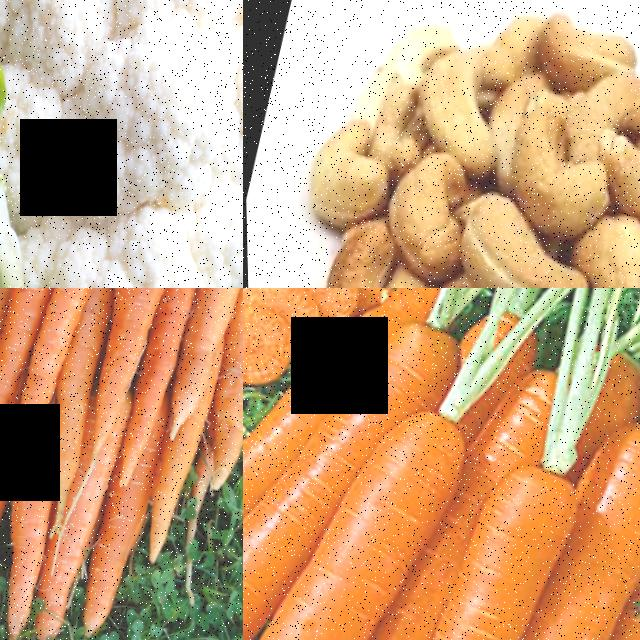carrot: (247, 394, 440, 640), (380, 450, 564, 640), (549, 368, 640, 640), (78, 288, 192, 428), (70, 474, 155, 640), (0, 414, 64, 620), (129, 288, 210, 435), (20, 487, 95, 640), (369, 312, 475, 419), (158, 288, 243, 420), (38, 288, 138, 375), (243, 489, 302, 635), (201, 288, 243, 475)
cashew: (501, 76, 618, 223), (433, 194, 611, 288), (417, 32, 513, 158), (532, 0, 640, 83), (286, 130, 379, 220), (303, 226, 415, 288), (357, 81, 427, 179), (591, 108, 640, 221)
cauliflower: (0, 0, 243, 288)
